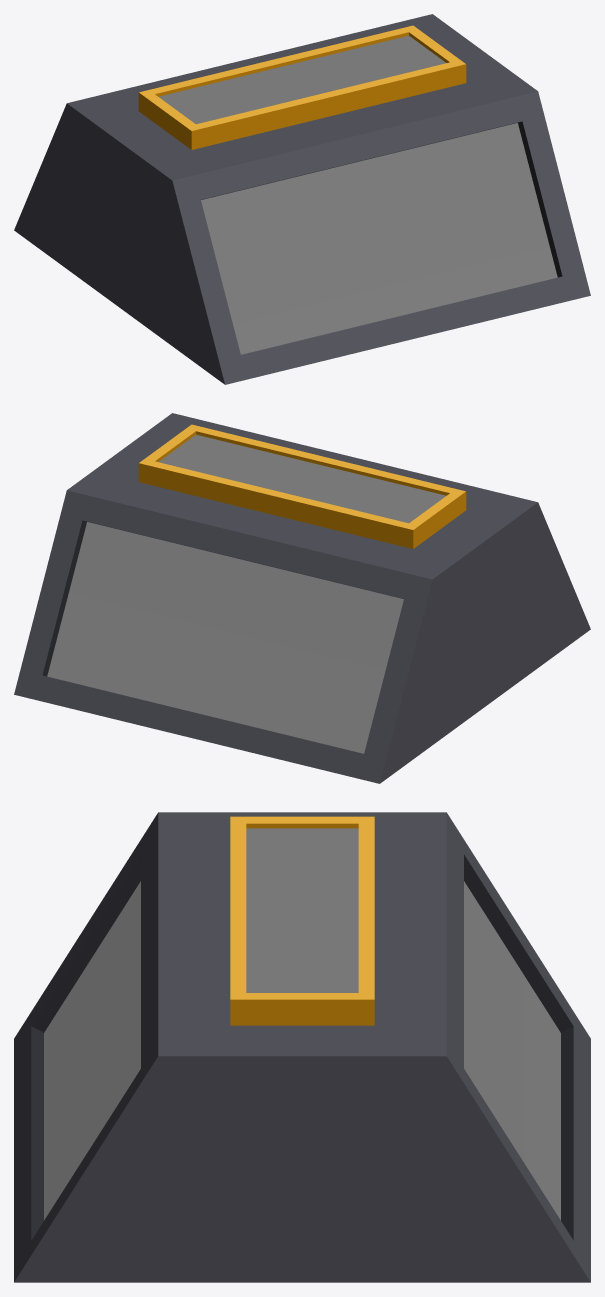
File: Light_03.glb
3 views of the same model, one above another, from view 1: azimuth 30°, elevation 25°; view 2: azimuth 150°, elevation 25°; view 3: azimuth 270°, elevation 25° (orthographic). The views are drawn at different scales.
Visible parts, largest first — view 1: Light_03; view 2: Light_03; view 3: Light_03.
Boxes of the visible parts, left/top/right/bottom form: Light_03: left=14, top=14, right=590, bottom=384; Light_03: left=14, top=413, right=590, bottom=783; Light_03: left=14, top=812, right=590, bottom=1282.
Size of what is drawn, in the model's own units: 0.6404 by 0.3091 by 0.6404.
Materials: 2 (2 with a texture image).
